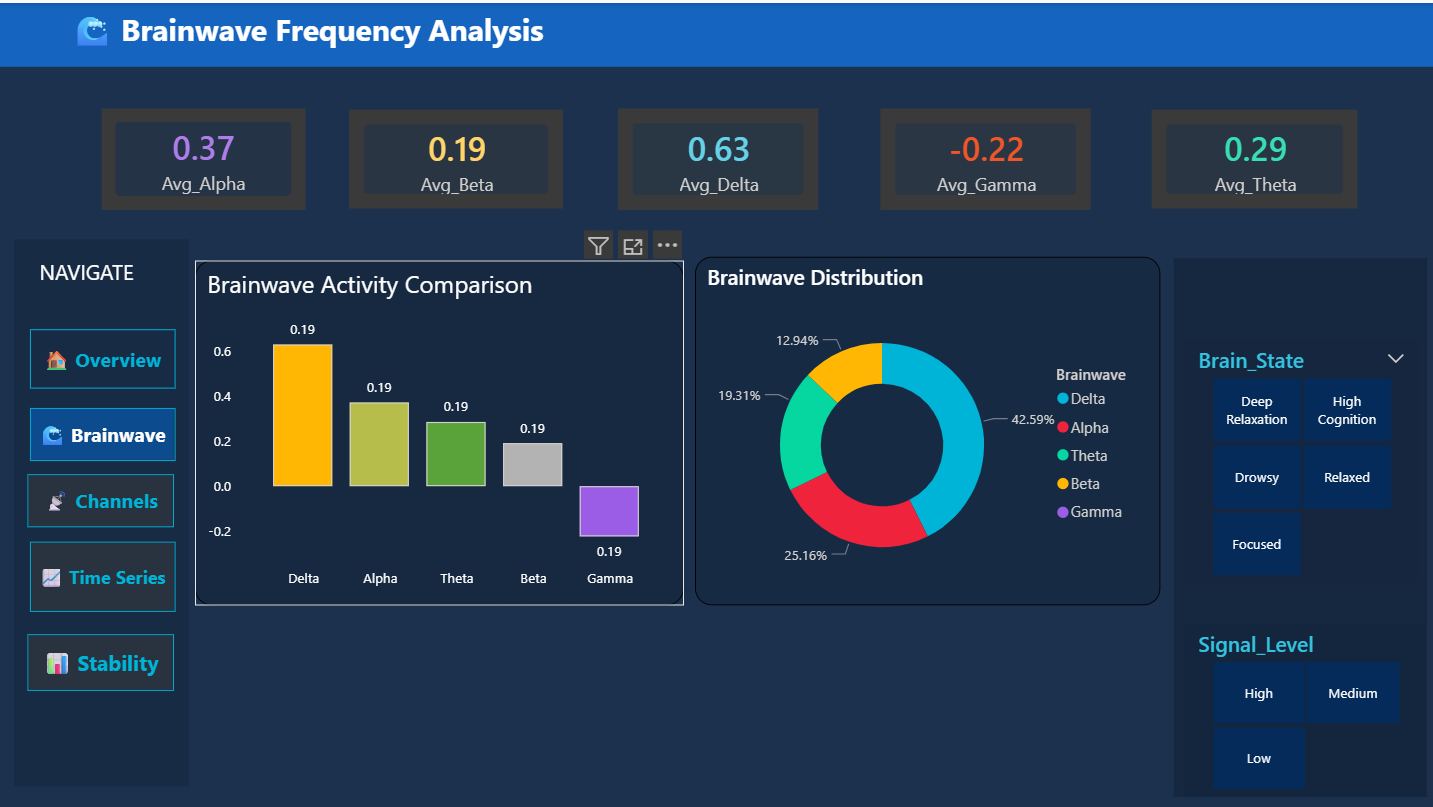

The dashboard page shown, as its layout file describes it:
{"tool":"powerbi","page":{"name":"Brainwave Analysis","canvas":[1280,720],"ordinal":1},"visuals":[{"type":"clusteredColumnChart","title":"Brainwave Activity Comparison","fields":{"Category":["EEG_Data.Brainwave"],"Y":["Intelligence.Avg_Signal"]},"box":[173.5,229.4,435.3,307.4],"z":0},{"type":"donutChart","title":"Brainwave Distribution","fields":{"Category":["EEG_Data.Brainwave"],"Y":["Intelligence.Avg_Signal"]},"box":[619.1,226.5,414.7,310.3],"z":1000},{"type":"textbox","box":[0,0,1279.8,57.1],"z":3000},{"type":"shape","box":[1044.8,226.8,225.6,480.2],"z":3500},{"type":"cardVisual","fields":{"Data":["Intelligence.Avg_Alpha"]},"box":[85.7,89.3,191.8,100.1],"z":4000},{"type":"cardVisual","fields":{"Data":["Intelligence.Avg_Beta"]},"box":[306.4,90.5,200.3,98.9],"z":5000},{"type":"slicer","fields":{"Values":["EEG_Data.Signal_Level"]},"box":[1054.4,553.8,216,153.2],"z":5500},{"type":"cardVisual","fields":{"Data":["Intelligence.Avg_Delta"]},"box":[545.3,89.3,188.2,100.1],"z":6000},{"type":"cardVisual","fields":{"Data":["Intelligence.Avg_Gamma"]},"box":[779.4,89.3,197.9,100.1],"z":7000},{"type":"cardVisual","fields":{"Data":["Intelligence.Avg_Theta"]},"box":[1020.6,90.5,193,98.9],"z":8000},{"type":"slicer","fields":{"Values":["EEG_Data.Brain_State"]},"box":[1054.4,300.4,208.7,216],"z":9000},{"type":"shape","box":[12.2,210.4,155.8,487.6],"z":11000},{"type":"actionButton","box":[26.4,360.3,129.4,47.3],"z":12000},{"type":"actionButton","box":[25,420.2,130.8,47.3],"z":13000},{"type":"actionButton","box":[26.4,480,129.4,62.6],"z":14000},{"type":"actionButton","box":[25,562.1,130.8,50.1],"z":15000},{"type":"actionButton","box":[26.4,290.8,129.4,52.9],"z":16000},{"type":"textbox","box":[30.6,221.2,109.9,44.5],"z":17000}]}

Visuals, with their boxes in screenshot pixels (x1, y1, x2, y2), scaled from the page's 1280x720 canvas onto the 1433x807 screenshot:
"Brainwave Activity Comparison" clusteredColumnChart: (left=194, top=257, right=682, bottom=602)
"Brainwave Distribution" donutChart: (left=693, top=254, right=1157, bottom=602)
textbox: (left=0, top=0, right=1432, bottom=64)
shape: (left=1170, top=254, right=1422, bottom=792)
cardVisual - Intelligence.Avg_Alpha: (left=96, top=100, right=311, bottom=212)
cardVisual - Intelligence.Avg_Beta: (left=343, top=101, right=567, bottom=212)
slicer - EEG_Data.Signal_Level: (left=1180, top=621, right=1422, bottom=792)
cardVisual - Intelligence.Avg_Delta: (left=610, top=100, right=821, bottom=212)
cardVisual - Intelligence.Avg_Gamma: (left=873, top=100, right=1094, bottom=212)
cardVisual - Intelligence.Avg_Theta: (left=1143, top=101, right=1359, bottom=212)
slicer - EEG_Data.Brain_State: (left=1180, top=337, right=1414, bottom=579)
shape: (left=14, top=236, right=188, bottom=782)
actionButton: (left=30, top=404, right=174, bottom=457)
actionButton: (left=28, top=471, right=174, bottom=524)
actionButton: (left=30, top=538, right=174, bottom=608)
actionButton: (left=28, top=630, right=174, bottom=686)
actionButton: (left=30, top=326, right=174, bottom=385)
textbox: (left=34, top=248, right=157, bottom=298)
